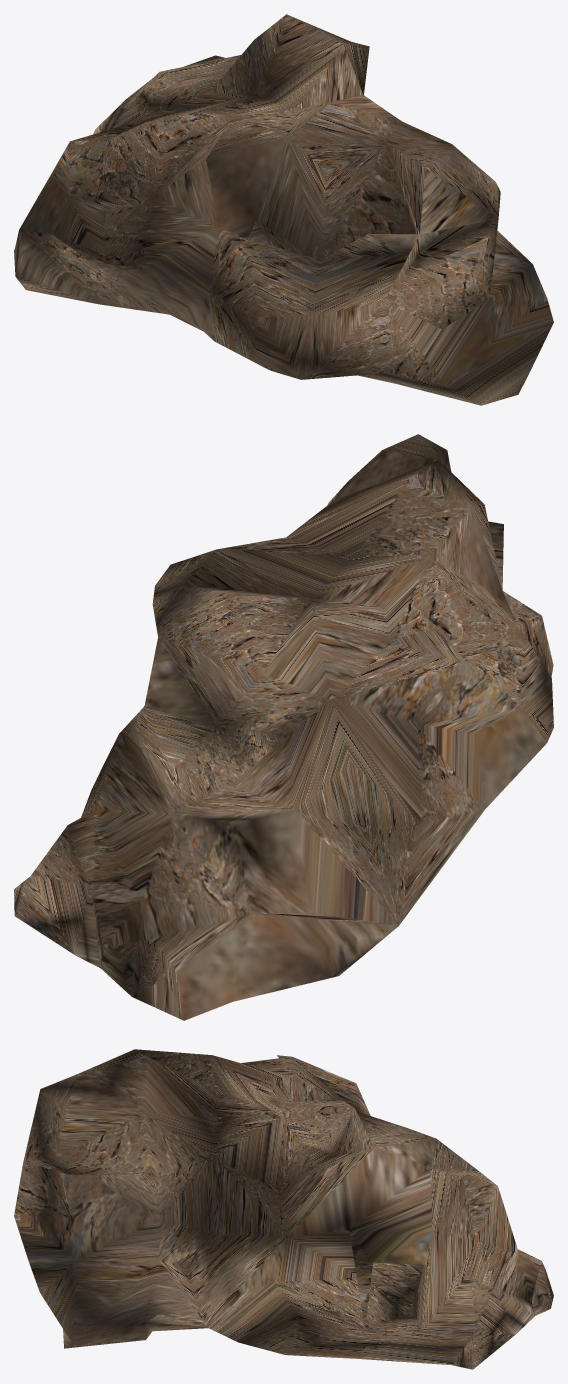
The model's file is boulder_low.glb.
3 renders of one model, top to bottom at view 1: azimuth 30°, elevation 25°; view 2: azimuth 150°, elevation 25°; view 3: azimuth 270°, elevation 25°, orthographic. The views are drawn at different scales.
Visible parts, largest first — view 1: boulder_01; view 2: boulder_01; view 3: boulder_01.
Part boxes in pixels (bbox=[...]): boulder_01: bbox=[14, 14, 553, 405]; boulder_01: bbox=[14, 434, 553, 1020]; boulder_01: bbox=[14, 1049, 553, 1369].
Bounding box in the file's own units: 1.25 × 0.9291 × 1.79.
Materials: 1 (1 with a texture image).
